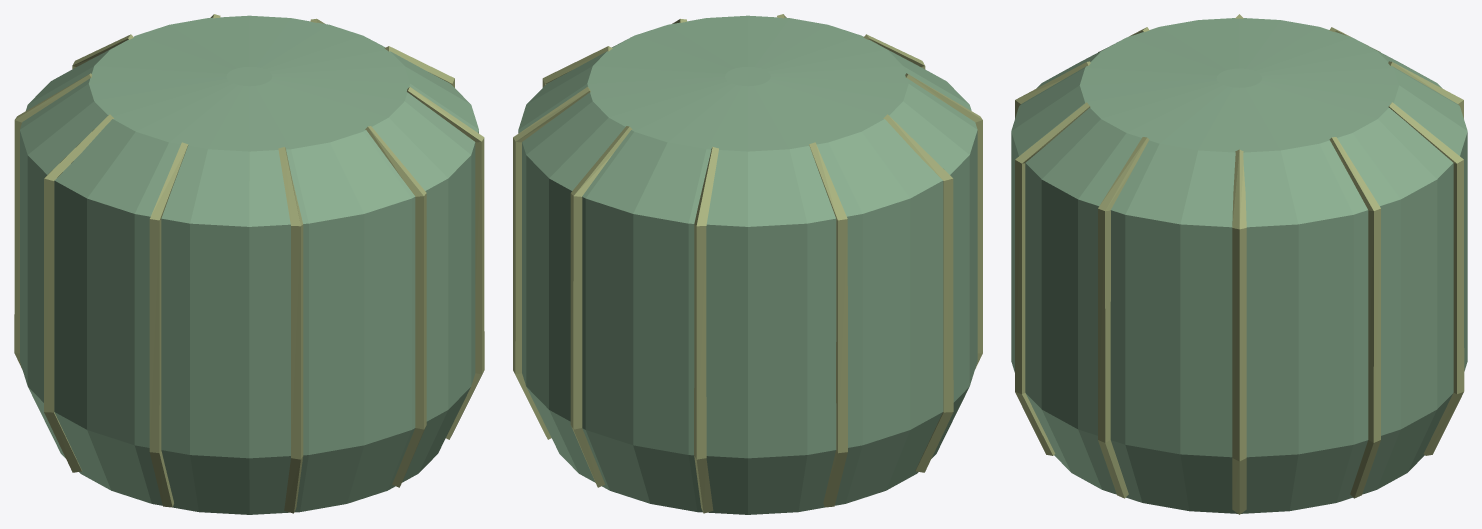
File: cactus2.glb
3 views of the same model, side by side, from view 1: azimuth 30°, elevation 25°; view 2: azimuth 150°, elevation 25°; view 3: azimuth 270°, elevation 25° (orthographic).
Visible parts, largest first — view 1: barrel-cactus; view 2: barrel-cactus; view 3: barrel-cactus.
Part boxes in pixels (box(x1,y1,x2,y2)): barrel-cactus: box(14, 14, 484, 514); barrel-cactus: box(513, 14, 982, 514); barrel-cactus: box(1011, 14, 1467, 514).
Bounding box in the file's own units: 0.7854 × 0.65 × 0.76.
